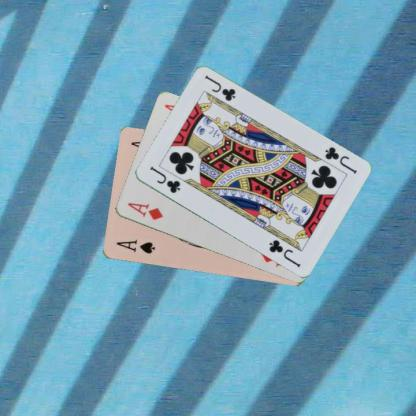Ad: (124, 200, 164, 222)
As: (114, 237, 156, 256)
Jc: (322, 144, 358, 175), (147, 164, 181, 194)
